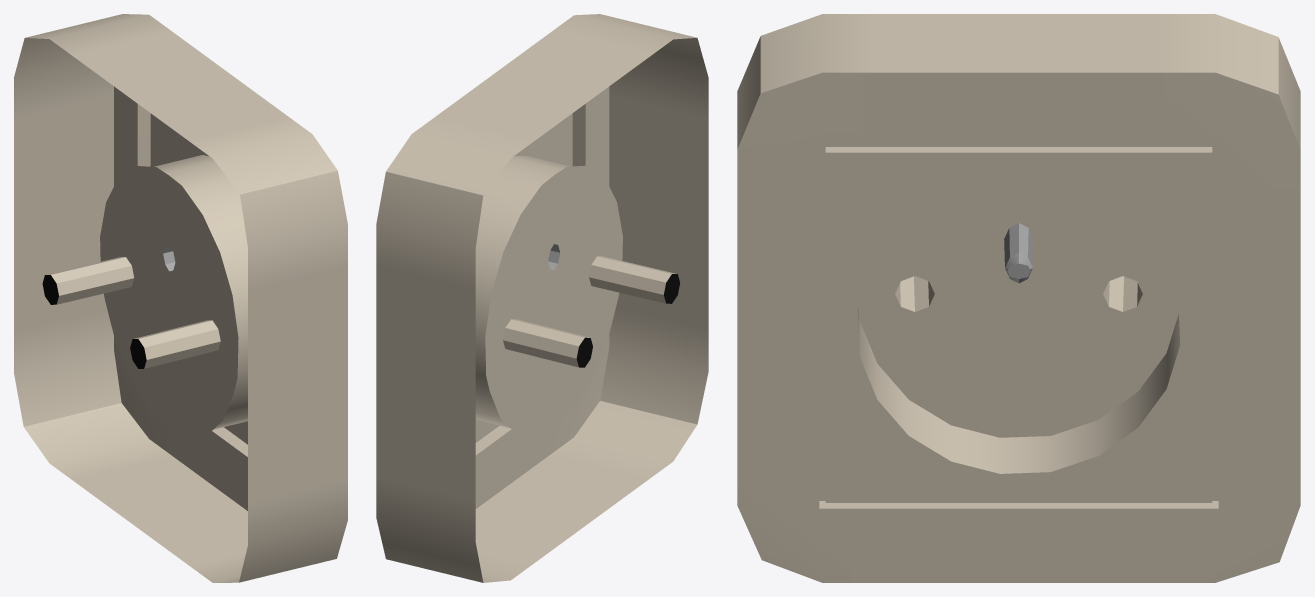
File: prises-courant.glb
3 renders of one model, left to right at view 1: azimuth 30°, elevation 25°; view 2: azimuth 150°, elevation 25°; view 3: azimuth 270°, elevation 25°, orthographic. The views are drawn at different scales.
Parts seen in each view (by area): view 1: Cube; view 2: Cube; view 3: Cube.
Part boxes in pixels (x1,y1,x2,y2): Cube: (14,14,347,582); Cube: (376,14,708,582); Cube: (737,14,1300,582).
Size of the model in its own units: 0.7495 by 2.23 by 2.23.
